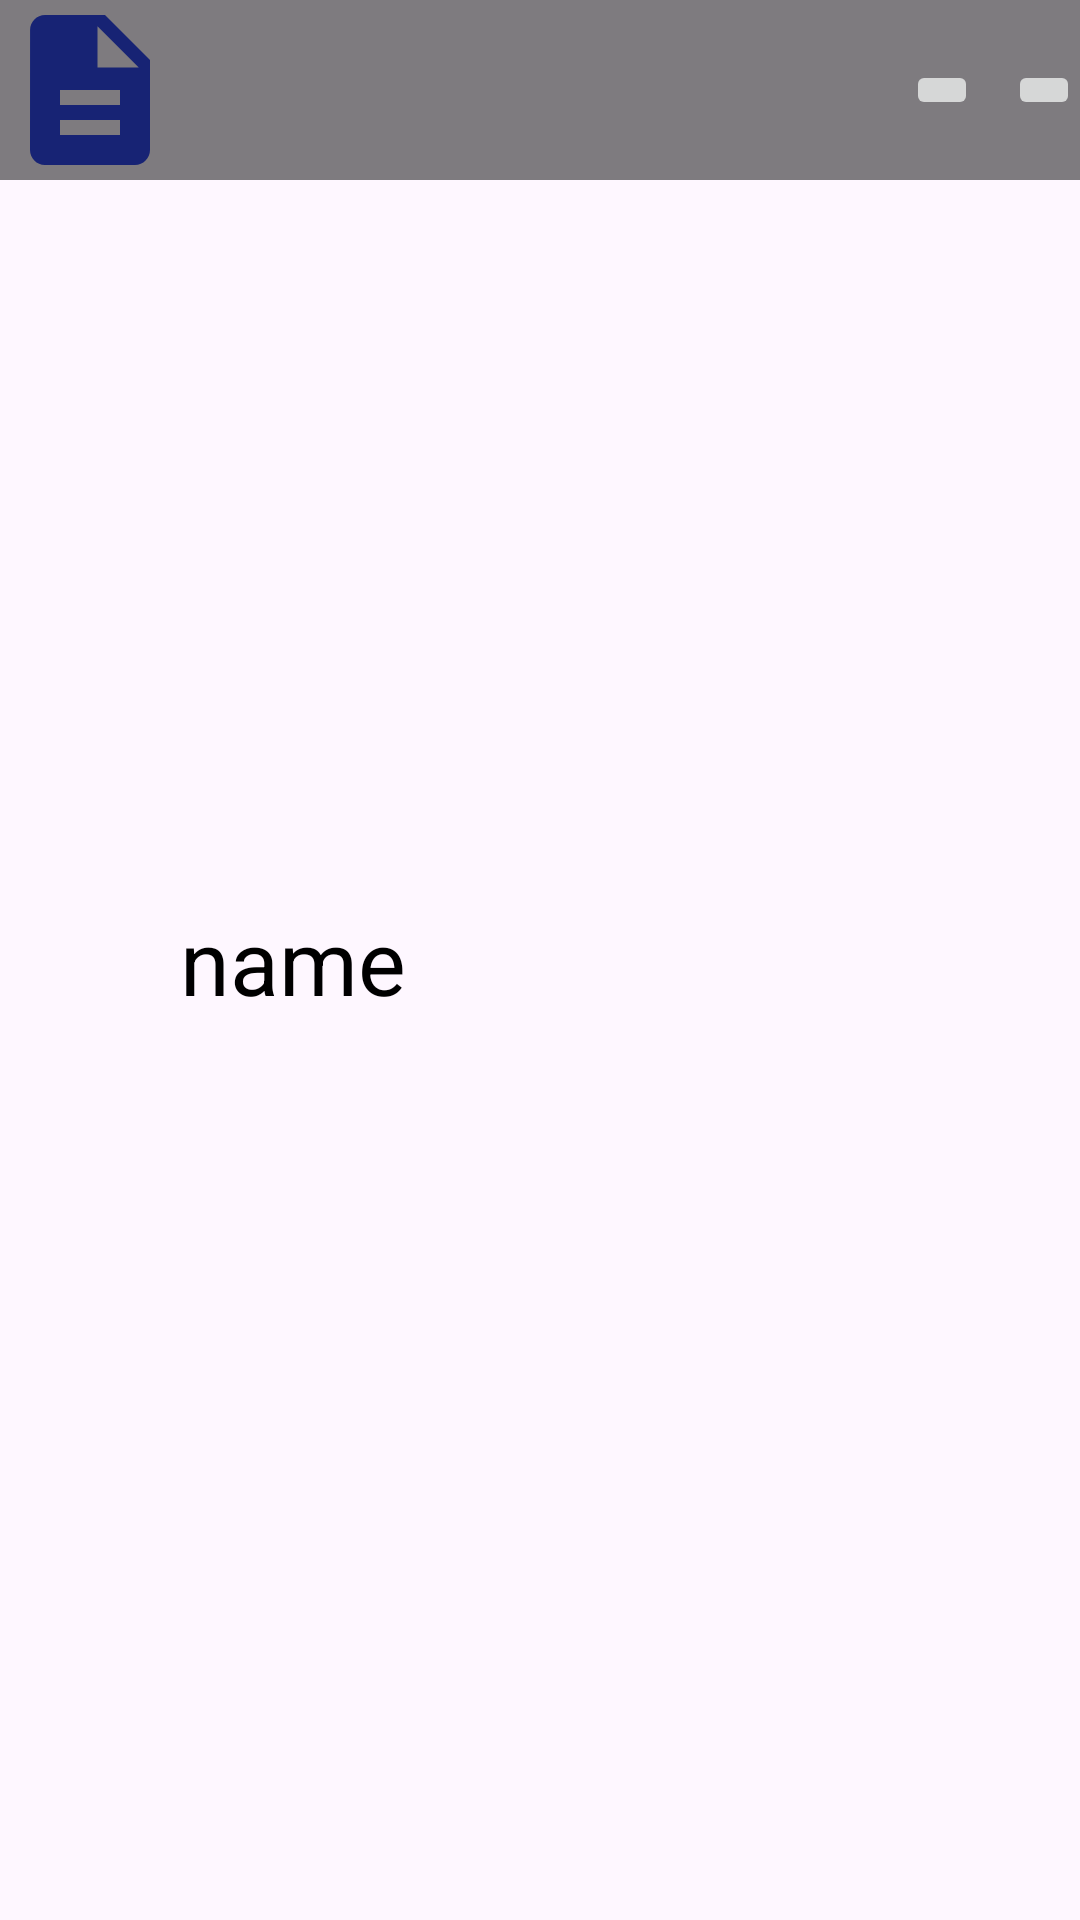

Icon click points for this 1080x1920 phone screenshot, format (x=x, y=y):
description: (x=90, y=90)
